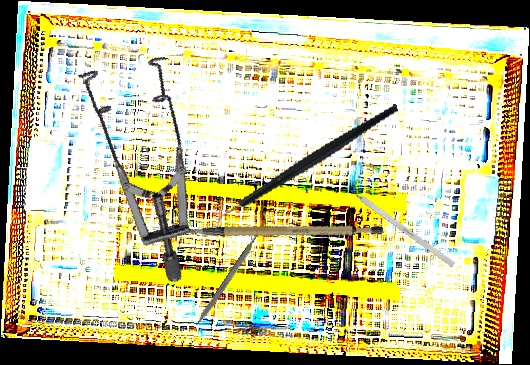Chopper: (196, 103, 416, 236)
Hook Surgical: (338, 180, 456, 268)
Scalpel Handle: (178, 196, 385, 262), (194, 231, 263, 328)
Speculum: (22, 32, 250, 285)
